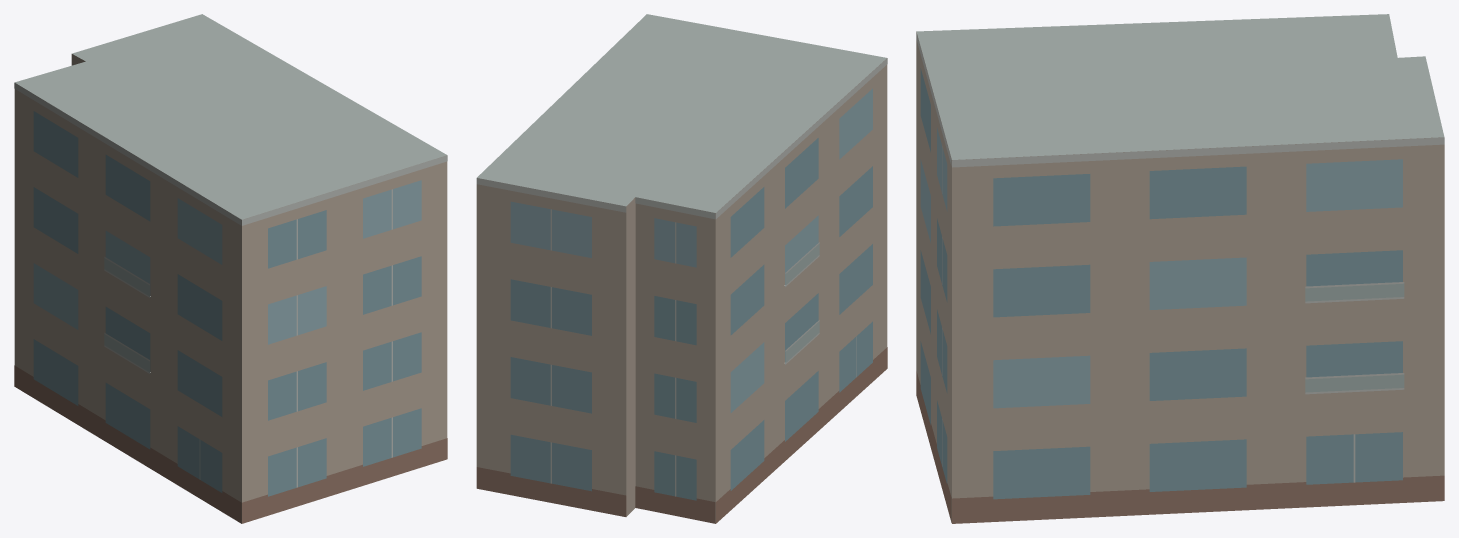
Rendered from survey-upis-32489992.glb.
3 renders of one model, left to right at view 1: azimuth 30°, elevation 25°; view 2: azimuth 150°, elevation 25°; view 3: azimuth 270°, elevation 25°, orthographic. The views are drawn at different scales.
Parts seen in each view (by area): view 1: survey-upis-32489992.tmp; view 2: survey-upis-32489992.tmp; view 3: survey-upis-32489992.tmp.
Boxes of the visible parts, x1,y1,x2,y2 form: survey-upis-32489992.tmp: (14, 14, 447, 523); survey-upis-32489992.tmp: (476, 14, 887, 523); survey-upis-32489992.tmp: (916, 14, 1444, 523).
Size of the model in its own units: 10.3 by 11.95 by 15.73.
